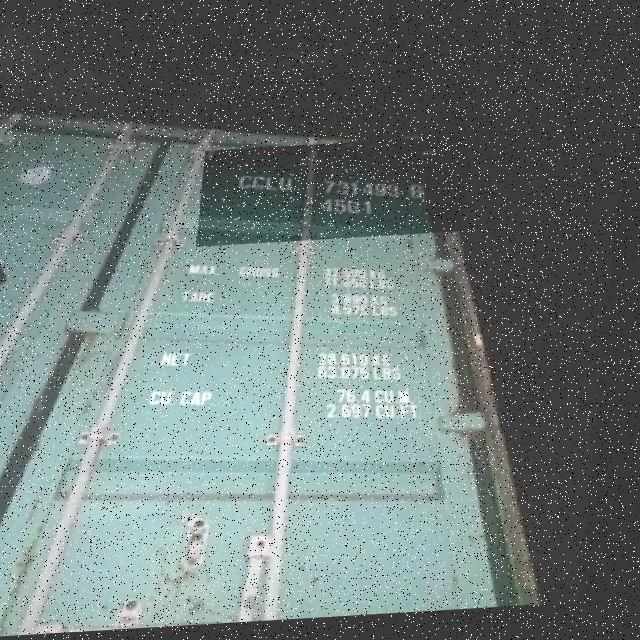container_number_h: (201, 141, 475, 250)
